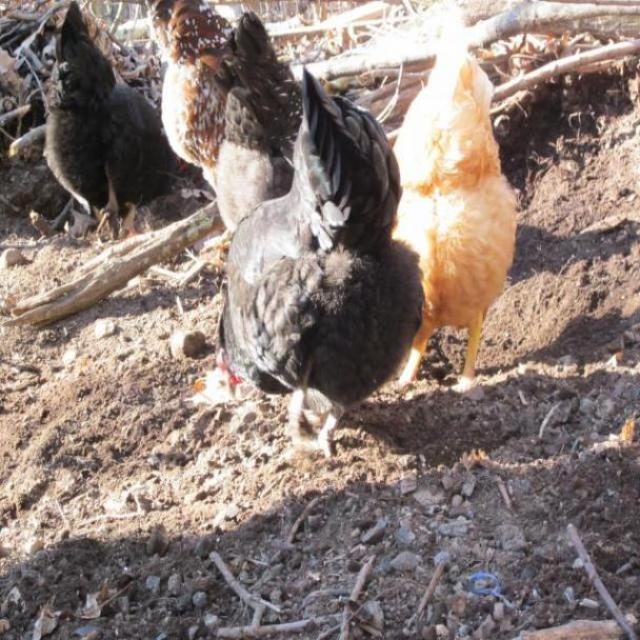Chicken: (164, 29, 430, 433), (32, 7, 213, 241), (396, 44, 520, 379)
